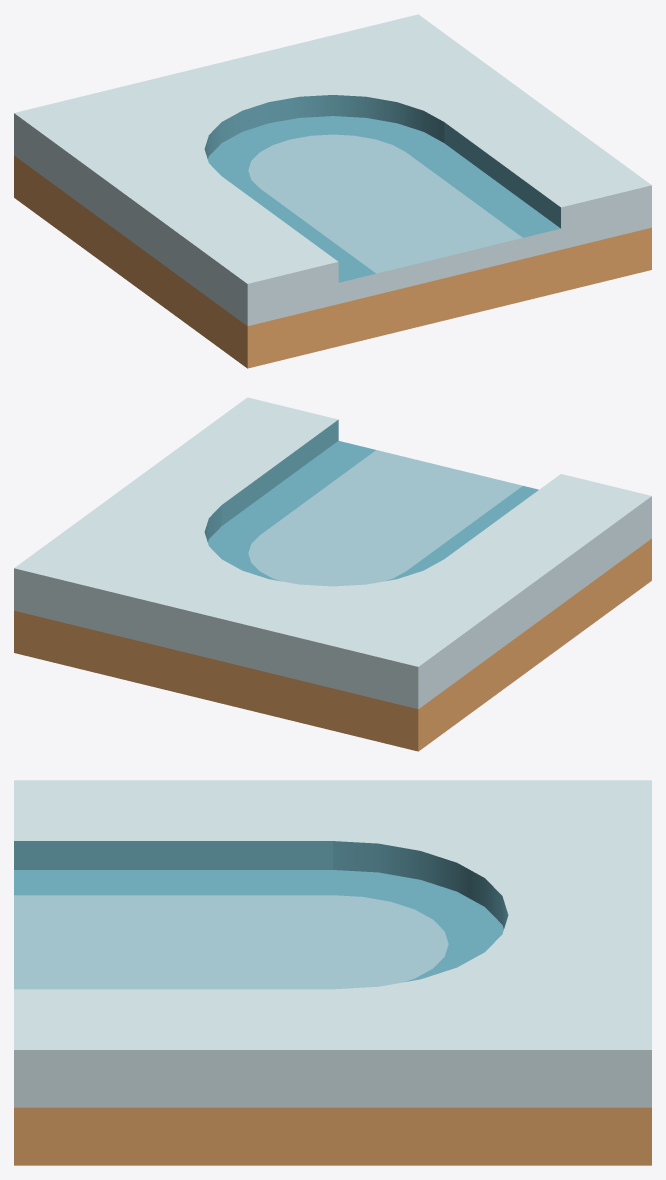
Rendered from snow_tile_endRound.dae.
3 views of the same model, one above another, from view 1: azimuth 30°, elevation 25°; view 2: azimuth 150°, elevation 25°; view 3: azimuth 270°, elevation 25° (orthographic). The views are drawn at different scales.
Parts seen in each view (by area): view 1: snow_tile_endRound; view 2: snow_tile_endRound; view 3: snow_tile_endRound.
Part boxes in pixels (x1=…): snow_tile_endRound: x1=14, y1=14, x2=651, y2=368; snow_tile_endRound: x1=14, y1=397, x2=651, y2=751; snow_tile_endRound: x1=14, y1=780, x2=651, y2=1165.
Bounding box in the file's own units: 1 × 0.2 × 1.
